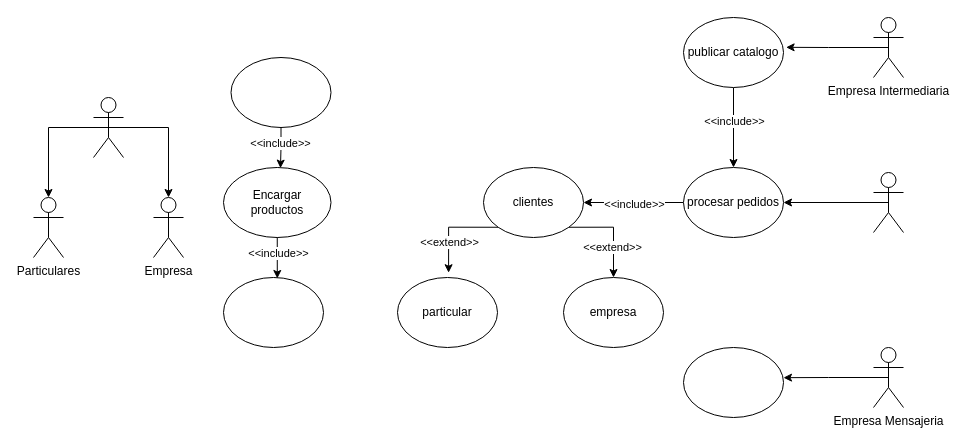
This 966x446 diagram has some shape labels left out. The shapes that lost their labels are listed below. From the top down, each one's centre as x and y in pixels, then its label:
At pixel 280 92: "Comprar".
At pixel 108 127: "Cliente".
At pixel 888 202: "Empresa Proovedora".
At pixel 273 312: "Enviar orden de pago/pedido".
At pixel 733 382: "Enviar pedidos a domicilio".
